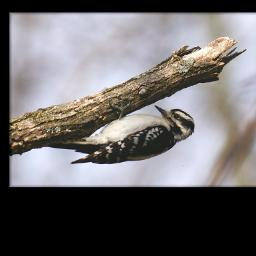Woodpecker: (44, 103, 205, 170)
